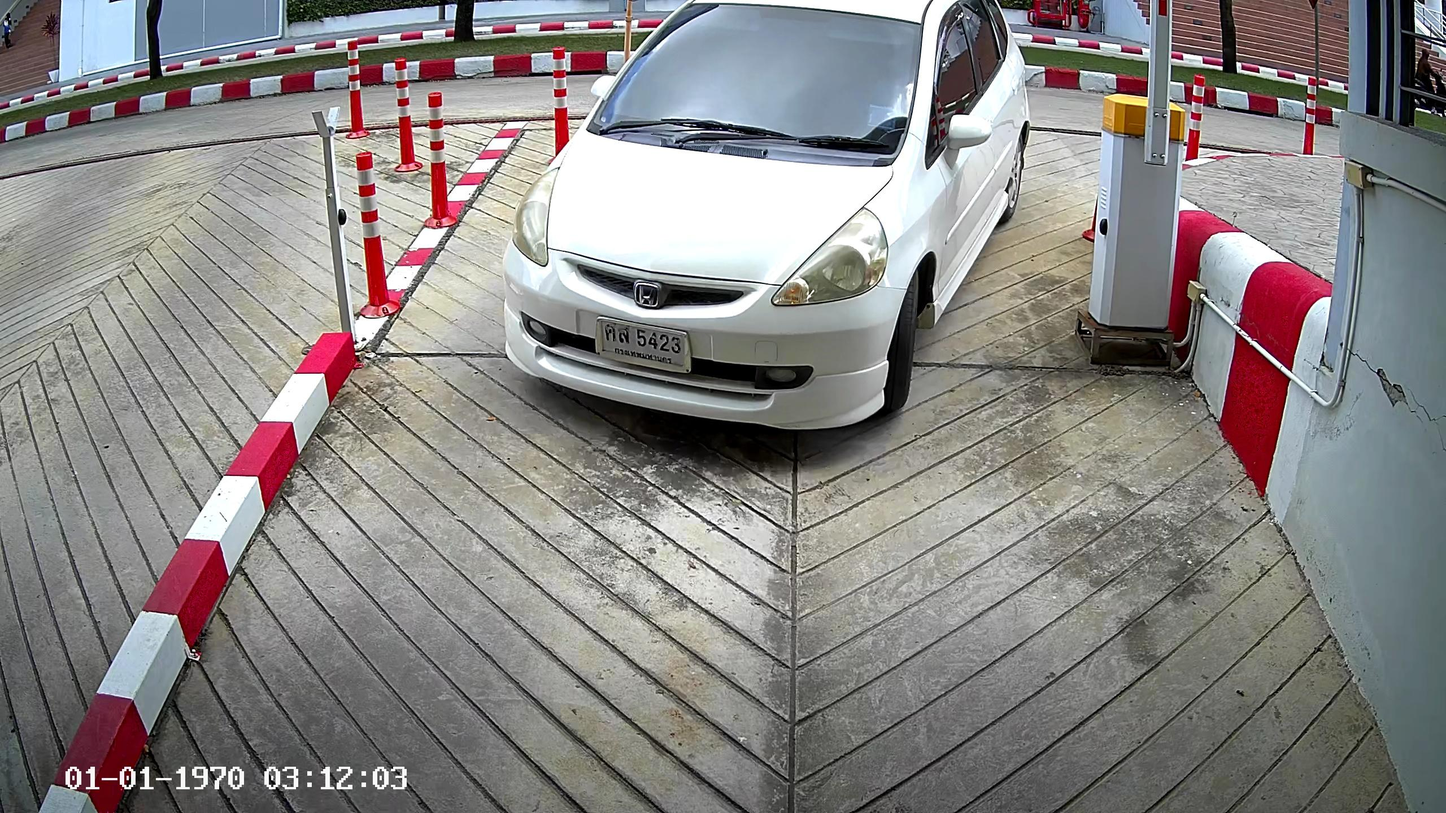car: (501, 3, 1032, 437)
license-plate: (594, 311, 694, 379)
